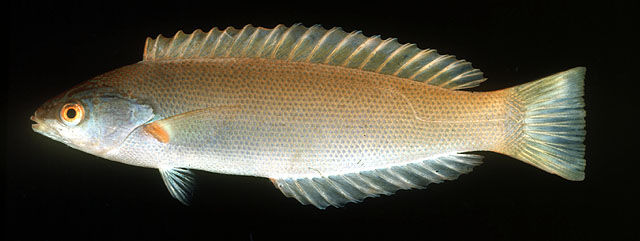fish: (29, 22, 590, 210)
